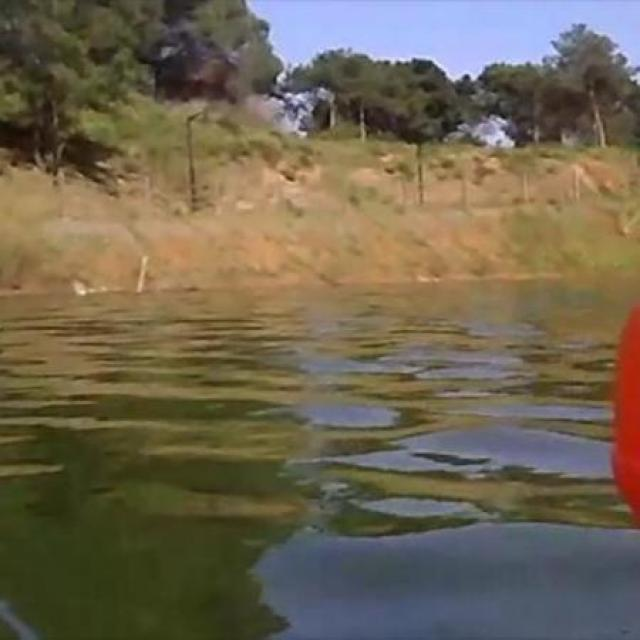buoy: (616, 301, 640, 530)
